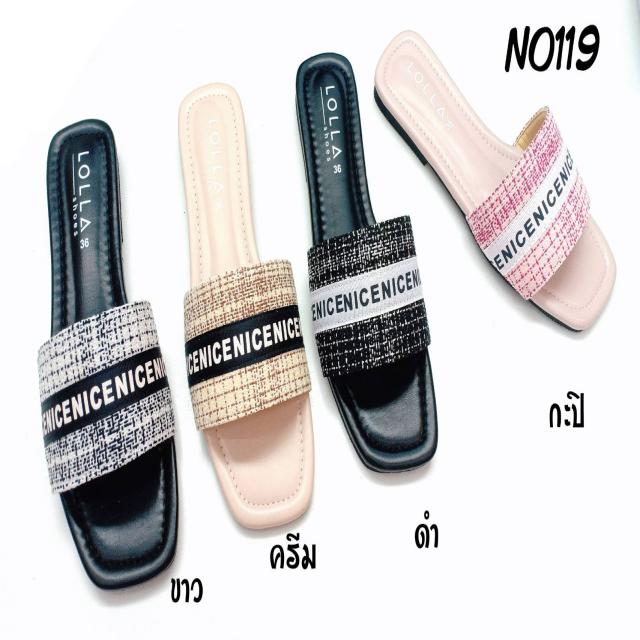black: (298, 40, 428, 483)
cream: (177, 86, 311, 510)
kapi: (375, 31, 613, 323)
white: (48, 121, 170, 564)
